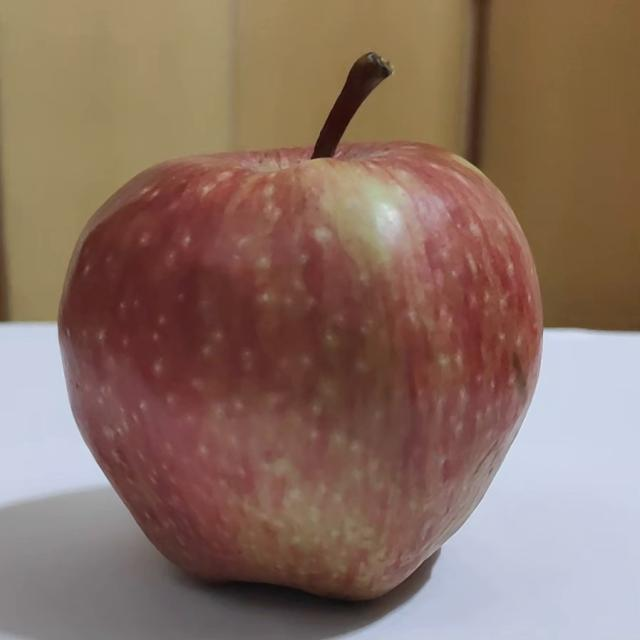apple: (47, 45, 553, 610)
